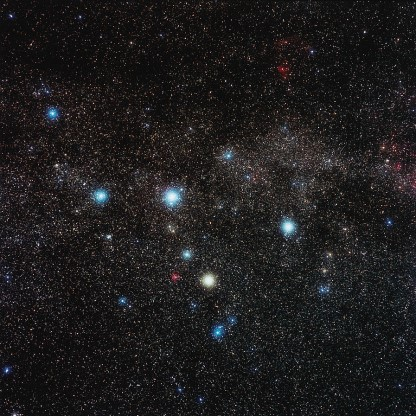Cassiopeia: (156, 180, 184, 215), (273, 207, 300, 243), (195, 263, 221, 295), (89, 182, 112, 209), (42, 106, 65, 122)
